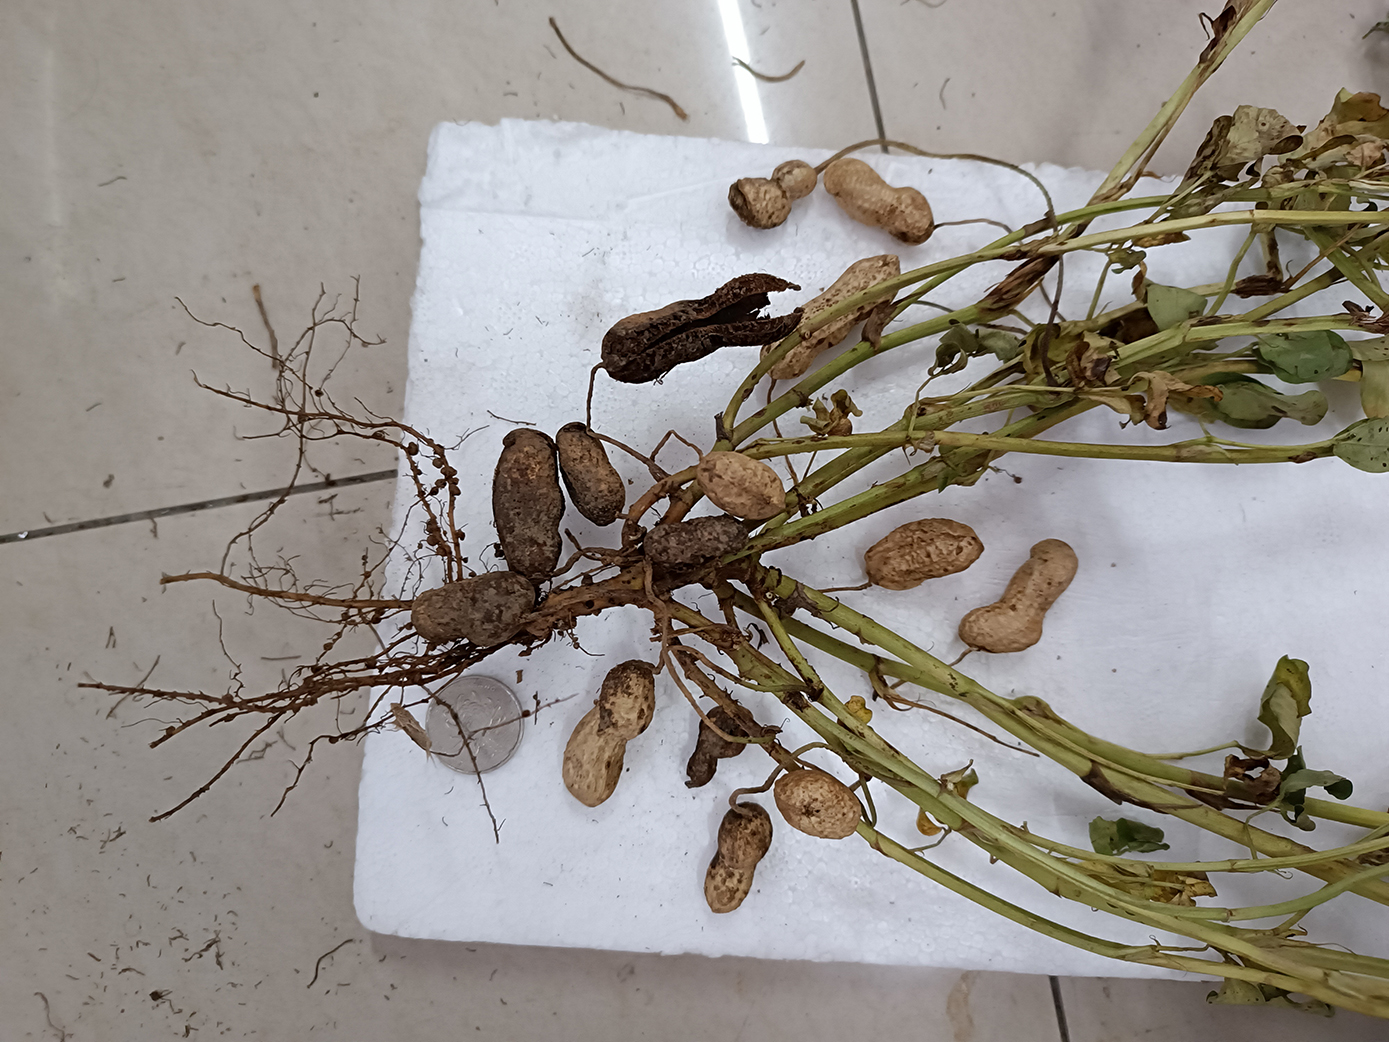h: (760, 255, 902, 378), (957, 536, 1080, 656), (562, 658, 655, 807), (824, 157, 934, 244), (865, 516, 986, 590), (726, 158, 818, 229), (697, 450, 786, 521), (772, 769, 861, 840)
l: (600, 273, 805, 384), (490, 427, 566, 580), (412, 570, 536, 645), (703, 800, 774, 913), (556, 422, 626, 526), (645, 514, 746, 568), (687, 704, 746, 787)
